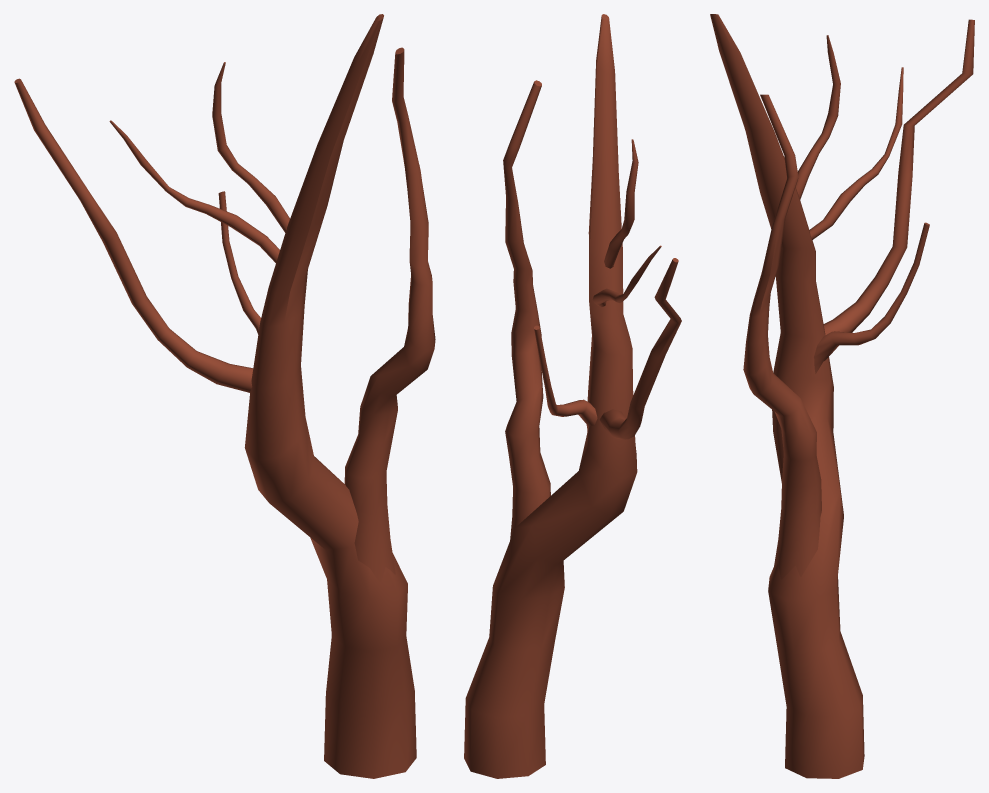
File: Tronc1.fbx
The picture shows the model from 3 angles, left to right: view 1: azimuth 30°, elevation 25°; view 2: azimuth 150°, elevation 25°; view 3: azimuth 270°, elevation 25°; orthographic projection. The views are drawn at different scales.
Parts seen in each view (by area): view 1: Cylinder.079, Cylinder.093, Cylinder.095, Cylinder.091, Cylinder.097, Cylinder.092; view 2: Cylinder.079, Cylinder.093, Cylinder.095, Cylinder.092, Cylinder.097, Cylinder.091; view 3: Cylinder.079, Cylinder.093, Cylinder.095, Cylinder.092, Cylinder.091, Cylinder.097.
Boxes of the visible parts, x1=… form: Cylinder.079: x1=244, y1=14, x2=416, y2=778; Cylinder.093: x1=344, y1=47, x2=435, y2=582; Cylinder.095: x1=14, y1=78, x2=253, y2=392; Cylinder.091: x1=109, y1=120, x2=279, y2=262; Cylinder.097: x1=212, y1=62, x2=289, y2=232; Cylinder.092: x1=218, y1=191, x2=260, y2=334; Cylinder.079: x1=464, y1=14, x2=637, y2=778; Cylinder.093: x1=503, y1=80, x2=550, y2=540; Cylinder.095: x1=599, y1=258, x2=681, y2=439; Cylinder.092: x1=534, y1=325, x2=597, y2=432; Cylinder.097: x1=604, y1=139, x2=638, y2=268; Cylinder.091: x1=592, y1=245, x2=661, y2=306; Cylinder.079: x1=710, y1=14, x2=864, y2=778; Cylinder.093: x1=743, y1=94, x2=821, y2=579; Cylinder.095: x1=823, y1=19, x2=974, y2=335; Cylinder.092: x1=814, y1=222, x2=929, y2=373; Cylinder.091: x1=809, y1=67, x2=903, y2=239; Cylinder.097: x1=795, y1=35, x2=840, y2=199.
Size of the model in its own units: 293 by 718 by 237.
